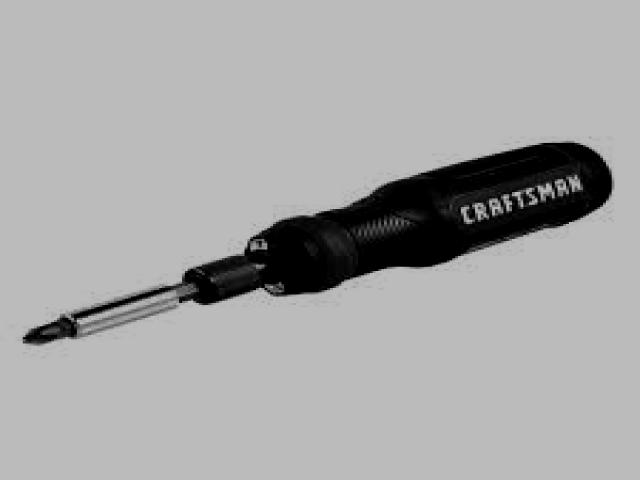Screwdriver: (24, 143, 611, 342)
